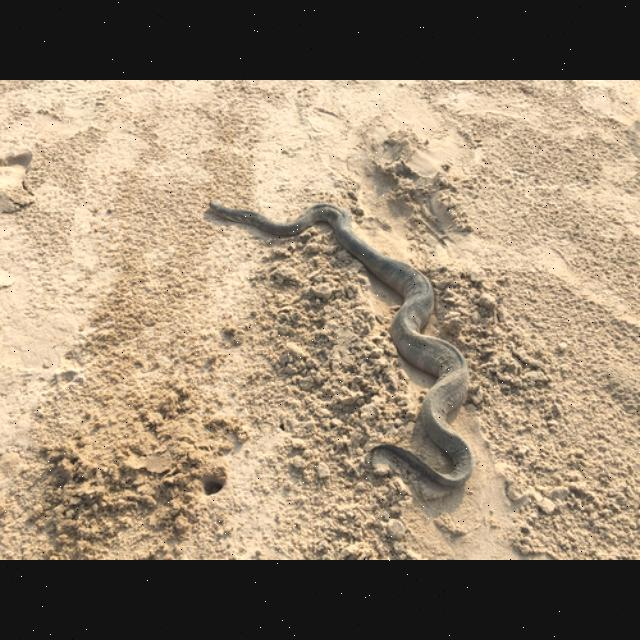snake: (202, 196, 478, 490)
